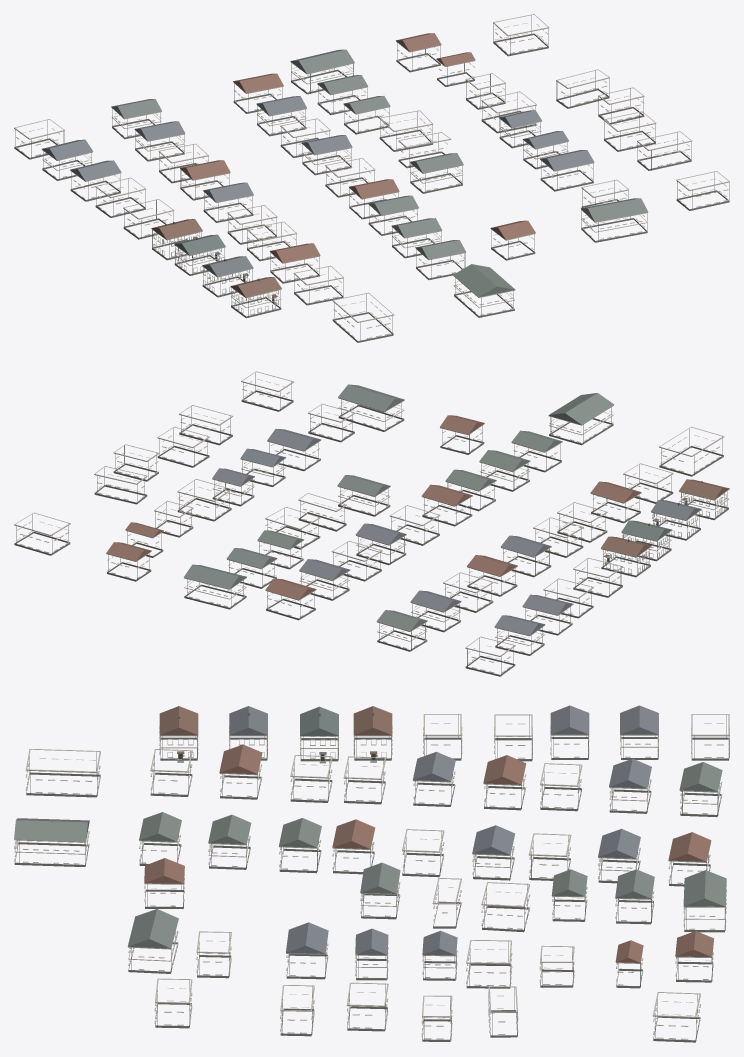
The model's file is district_0_-1.glb.
3 renders of one model, top to bottom at view 1: azimuth 30°, elevation 25°; view 2: azimuth 150°, elevation 25°; view 3: azimuth 270°, elevation 25°, orthographic. The views are drawn at different scales.
Visible parts, largest first — view 1: MasonryTrim, RoofMetal, MetalDetails; view 2: MasonryTrim, RoofMetal, MetalDetails; view 3: RoofMetal, MasonryTrim, MetalDetails.
Boxes of the visible parts, bbox=[...] form: MasonryTrim: bbox=[14, 14, 729, 342]; RoofMetal: bbox=[42, 33, 648, 297]; MetalDetails: bbox=[15, 15, 729, 342]; MasonryTrim: bbox=[14, 371, 729, 676]; RoofMetal: bbox=[106, 384, 729, 635]; MetalDetails: bbox=[16, 373, 727, 675]; RoofMetal: bbox=[14, 705, 726, 962]; MasonryTrim: bbox=[14, 714, 729, 1042]; MetalDetails: bbox=[17, 712, 729, 1041].
Bounding box in the file's own units: 191 × 10.35 × 190.
